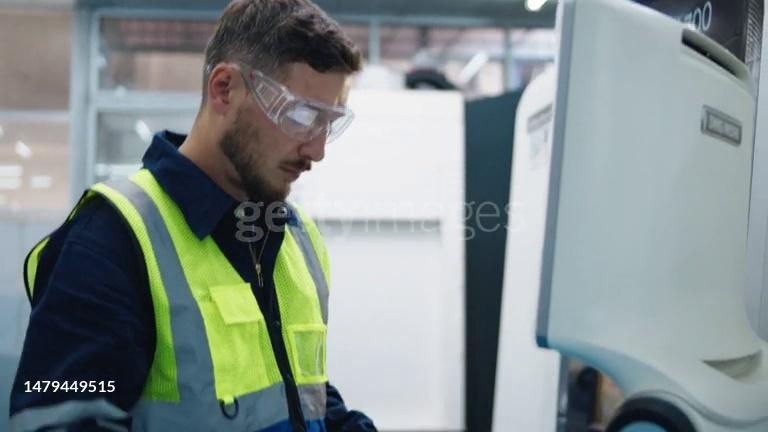person: (8, 0, 378, 432)
